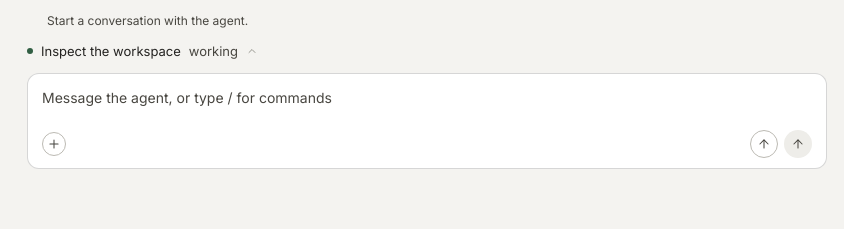
Test case: AgentChatSurface › shows the failed and working counts on the pill, hiding a zero part, and lists every subagent
The width and height of the screenshot is (844, 229).
Expected: the element with test id "who-is-working" does not show "running"
Expected: the element with test id "who-is-working" does not show "stopped"
Click the button with test id "who-is-working": (142, 51) 19,37 -> 266,65
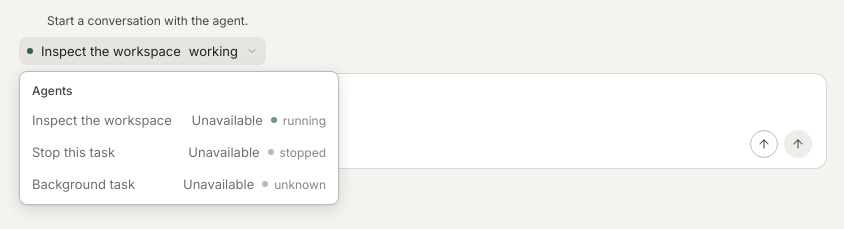
Result: the button with test id "who-is-working" is expanded
Result: the number of buttons with class "workspace-subagent-row" is 3 at 24,104 -> 334,136; 24,136 -> 334,168; 24,168 -> 334,200
Result: the element with class "workspace-subagent-list" shows "Inspect the workspace" at 24,104 -> 334,136
Click the button with test id "who-is-working": (142, 51) 19,37 -> 266,65
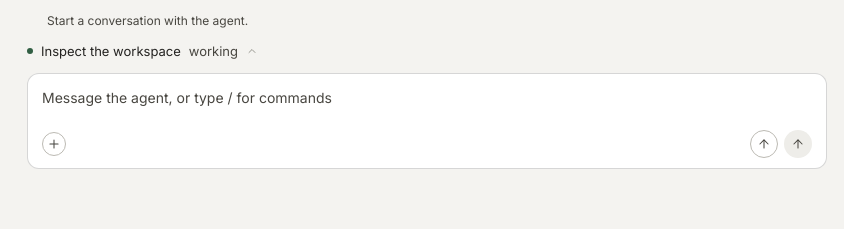
Result: the button with test id "who-is-working" is collapsed at 19,37 -> 266,65
Result: the element with class "workspace-subagent-list" is gone
